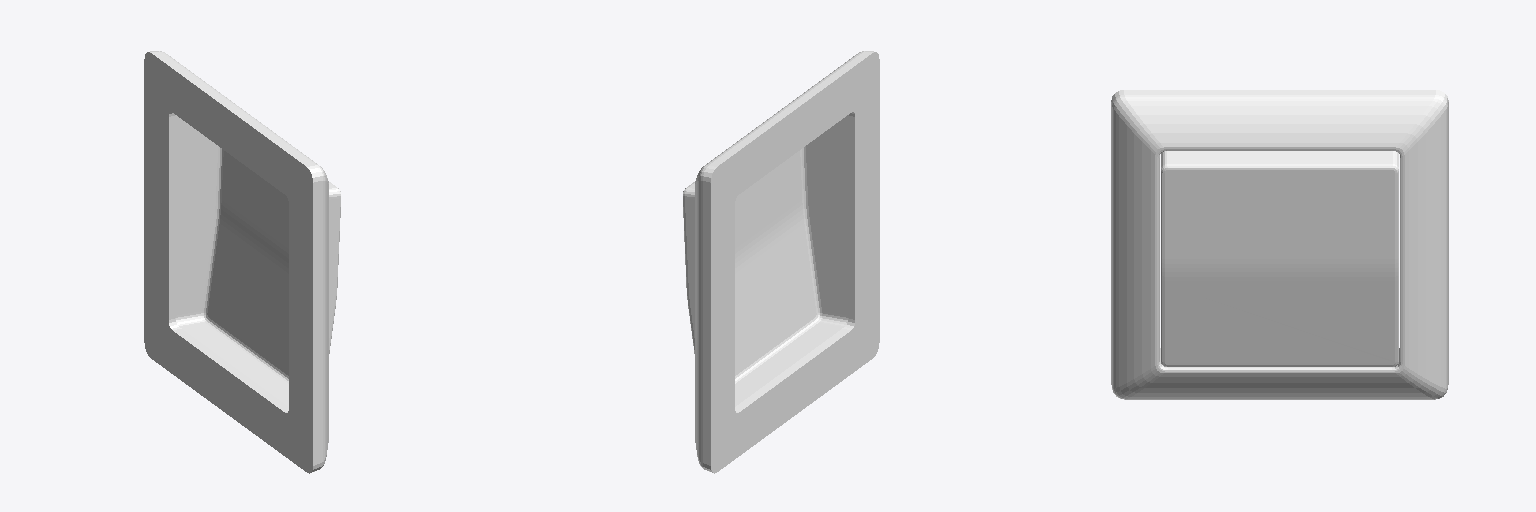
3 renders of one model, left to right at view 1: azimuth 30°, elevation 25°; view 2: azimuth 150°, elevation 25°; view 3: azimuth 270°, elevation 25°, orthographic.
Visible parts, largest first — view 1: 开关; view 2: 开关; view 3: 开关.
Boxes of the visible parts, x1=… form: 开关: x1=144, y1=51, x2=340, y2=473; 开关: x1=683, y1=51, x2=879, y2=473; 开关: x1=1111, y1=90, x2=1448, y2=399.
Size of the model in its own units: 0.2514 by 1.35 by 1.35.